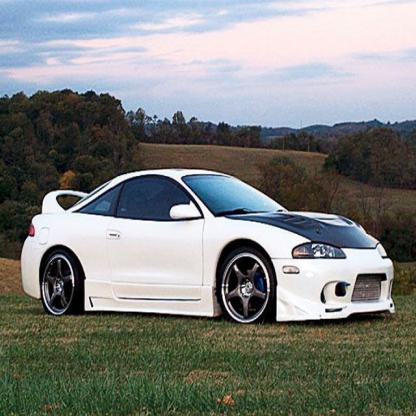Vehicle: (19, 166, 396, 330)
